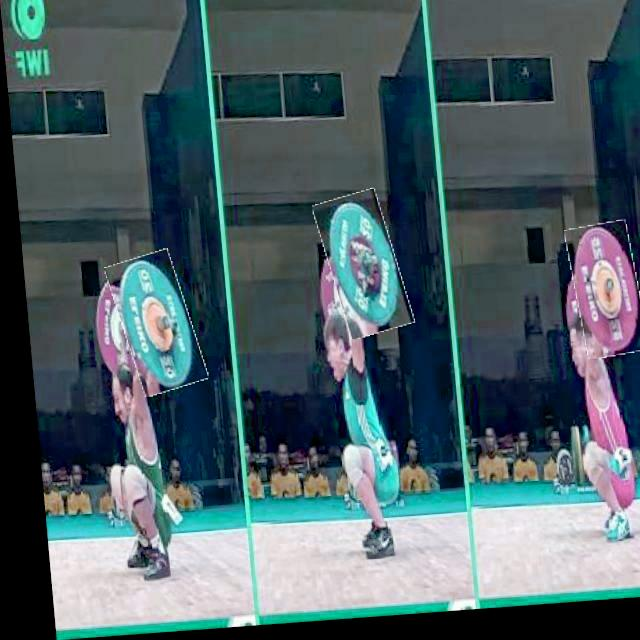barbell: (106, 252, 196, 399), (315, 196, 402, 344), (562, 231, 640, 369)
